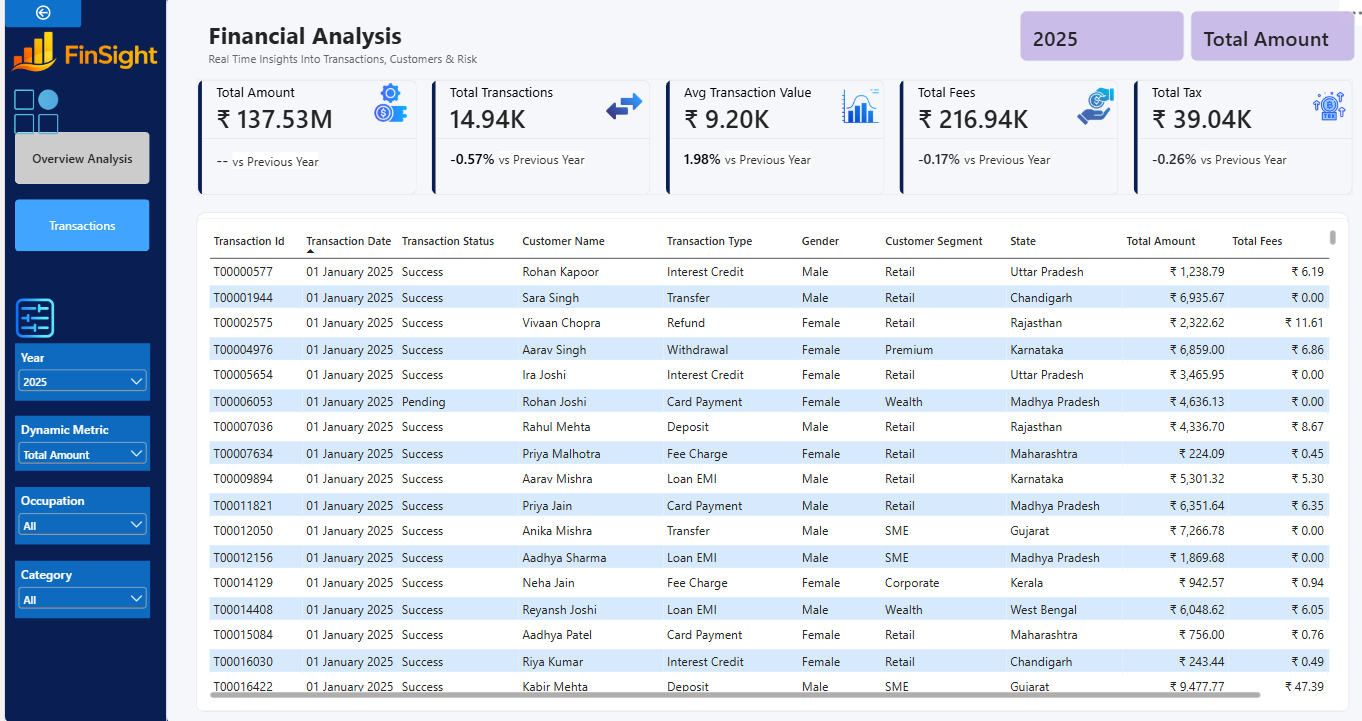

The page's visual inventory and layout, read from the dashboard file:
{"tool":"powerbi","page":{"name":"Transactions","canvas":[1800,950],"ordinal":1},"visuals":[{"type":"shape","box":[0,0,290,950],"z":0},{"type":"shape","box":[211.4,0,1574,950],"z":1000},{"type":"image","box":[0,0,212,144],"z":2000},{"type":"cardVisual","fields":{"Data":["finance_transactions.Dashboard Title"]},"box":[250,17.1,395.7,88.6],"z":3000},{"type":"cardVisual","fields":{"Data":["finance_transactions.Total Amount","finance_transactions.Total Transactions","finance_transactions.Avg Transaction Value","finance_transactions.Total Fees","finance_transactions.Total Tax"]},"box":[250,106,1516,154],"z":4000},{"type":"image","box":[478.9,113.3,50,50],"z":5000},{"type":"image","box":[785.6,113.3,50,60],"z":6000},{"type":"image","box":[1401.1,113.3,50,60],"z":7000},{"type":"image","box":[1094.4,113.3,50,60],"z":8000},{"type":"image","box":[1707.8,113.3,50,60],"z":9000},{"type":"shape","box":[250,282,1508,654],"z":10000},{"type":"cardVisual","fields":{"Data":["finance_transactions.Selected Year","finance_transactions.Selected Dynamic Measure"]},"box":[1328,18,438,66],"z":11000},{"type":"tableEx","fields":{"Values":["finance_transactions.transaction_id","finance_transactions.transaction_date","finance_transactions.transaction_status","customers.customer_name","finance_transactions.transaction_type","customers.gender","customers.customer_segment","customers.state","finance_transactions.Total Amount","finance_transactions.Total Fees","finance_transactions.Total Tax"]},"box":[250,290,1508.3,645],"z":12000},{"type":"actionButton","box":[0,0,100,40],"z":13000},{"type":"slicer","fields":{"Values":["Calendar Table.Year"]},"box":[13.3,453.3,176.7,75],"z":14000},{"type":"slicer","fields":{"Values":["Dynamic Metric.Dynamic Metric"]},"box":[13.3,548.3,176.7,71.7],"z":15000},{"type":"slicer","fields":{"Values":["customers.occupation"]},"box":[13.3,641.7,176.7,75],"z":16000},{"type":"slicer","fields":{"Values":["finance_transactions.merchant_category"]},"box":[13.3,736.7,176.7,75],"z":17000},{"type":"pageNavigator","box":[13.3,176.7,176.7,157.5],"z":18000},{"type":"image","box":[1.7,121.7,78.3,58.3],"z":18001},{"type":"image","box":[0,390,78.3,58.3],"z":18002}]}

Visuals, with their boxes on the page's 1800x950 design canvas (x1, y1, x2, y2). These are canvas units, not pixel positions in the 1362x721 screenshot, which may show the page scaled, cropped or inside an application window:
shape: select_region(0, 0, 290, 950)
shape: select_region(211, 0, 1785, 950)
image: select_region(0, 0, 212, 144)
cardVisual - finance_transactions.Dashboard Title: select_region(250, 17, 646, 106)
cardVisual - finance_transactions.Total Amount x finance_transactions.Total Transactions: select_region(250, 106, 1766, 260)
image: select_region(479, 113, 529, 163)
image: select_region(786, 113, 836, 173)
image: select_region(1401, 113, 1451, 173)
image: select_region(1094, 113, 1144, 173)
image: select_region(1708, 113, 1758, 173)
shape: select_region(250, 282, 1758, 936)
cardVisual - finance_transactions.Selected Year x finance_transactions.Selected Dynamic Measure: select_region(1328, 18, 1766, 84)
tableEx - finance_transactions.transaction_id x finance_transactions.transaction_date: select_region(250, 290, 1758, 935)
actionButton: select_region(0, 0, 100, 40)
slicer - Calendar Table.Year: select_region(13, 453, 190, 528)
slicer - Dynamic Metric.Dynamic Metric: select_region(13, 548, 190, 620)
slicer - customers.occupation: select_region(13, 642, 190, 717)
slicer - finance_transactions.merchant_category: select_region(13, 737, 190, 812)
pageNavigator: select_region(13, 177, 190, 334)
image: select_region(2, 122, 80, 180)
image: select_region(0, 390, 78, 448)
